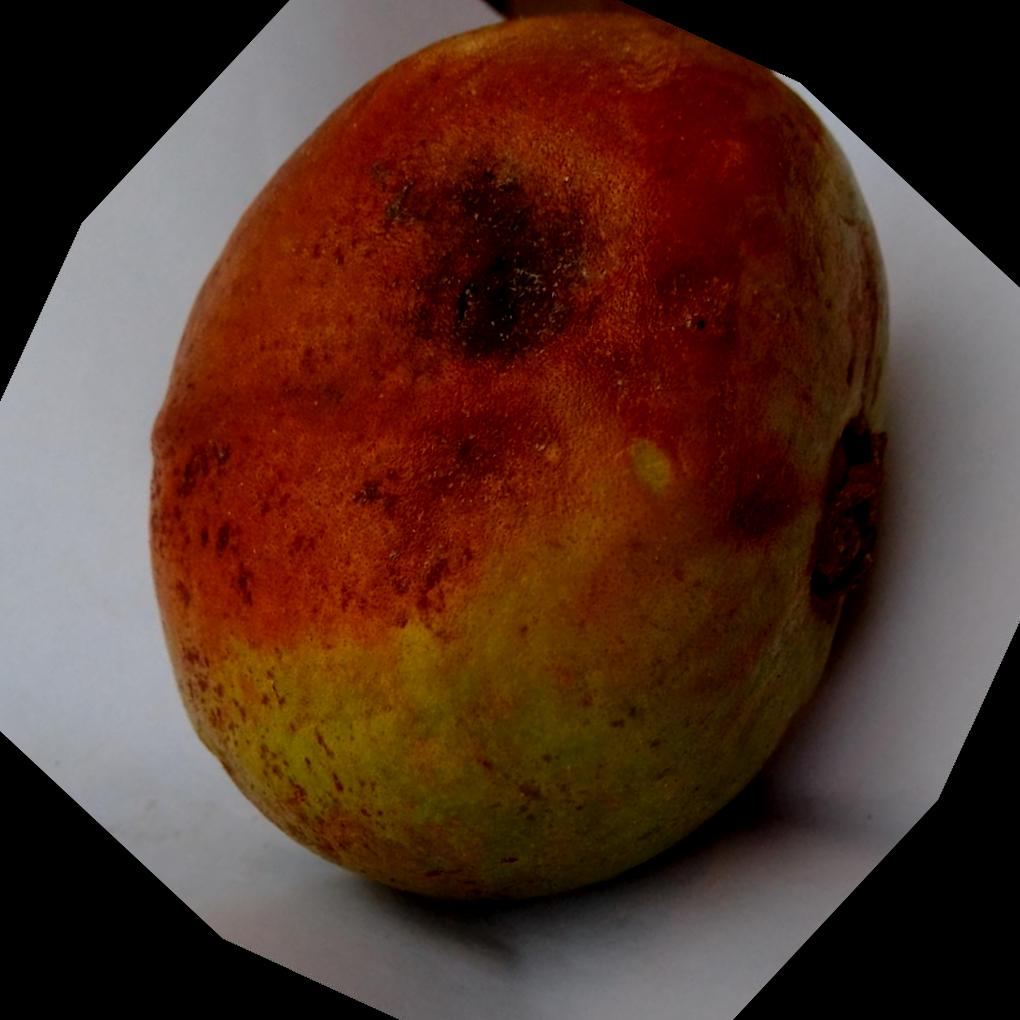FreshOrange: (144, 4, 889, 906)
